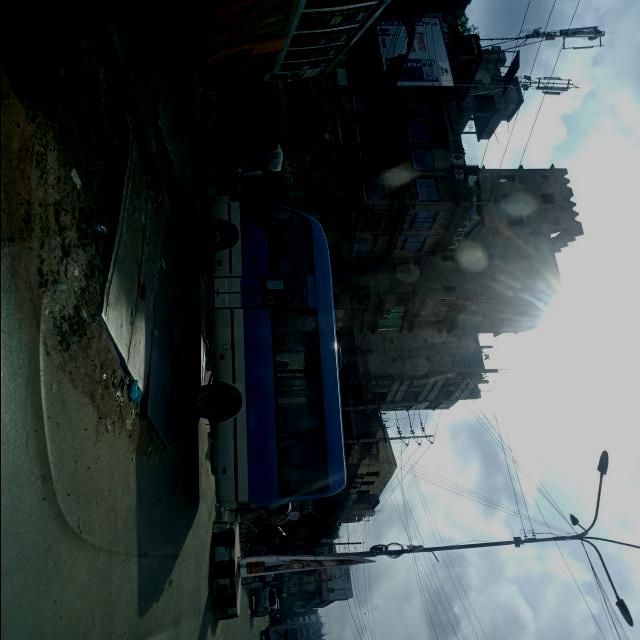bus: (188, 195, 348, 507), (132, 2, 388, 88)
